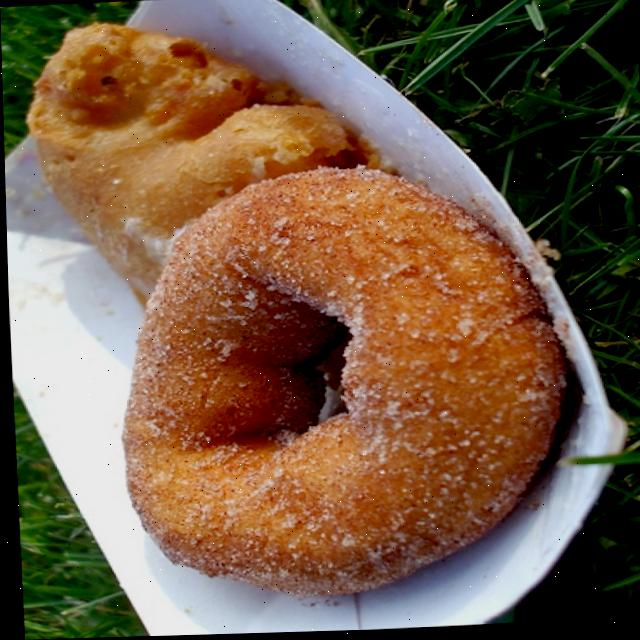炸货点心: (4, 0, 606, 615)
